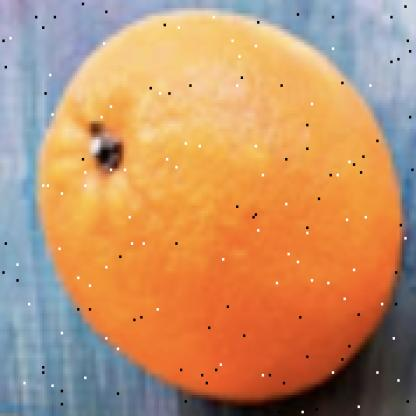fresh: (41, 9, 405, 401)
